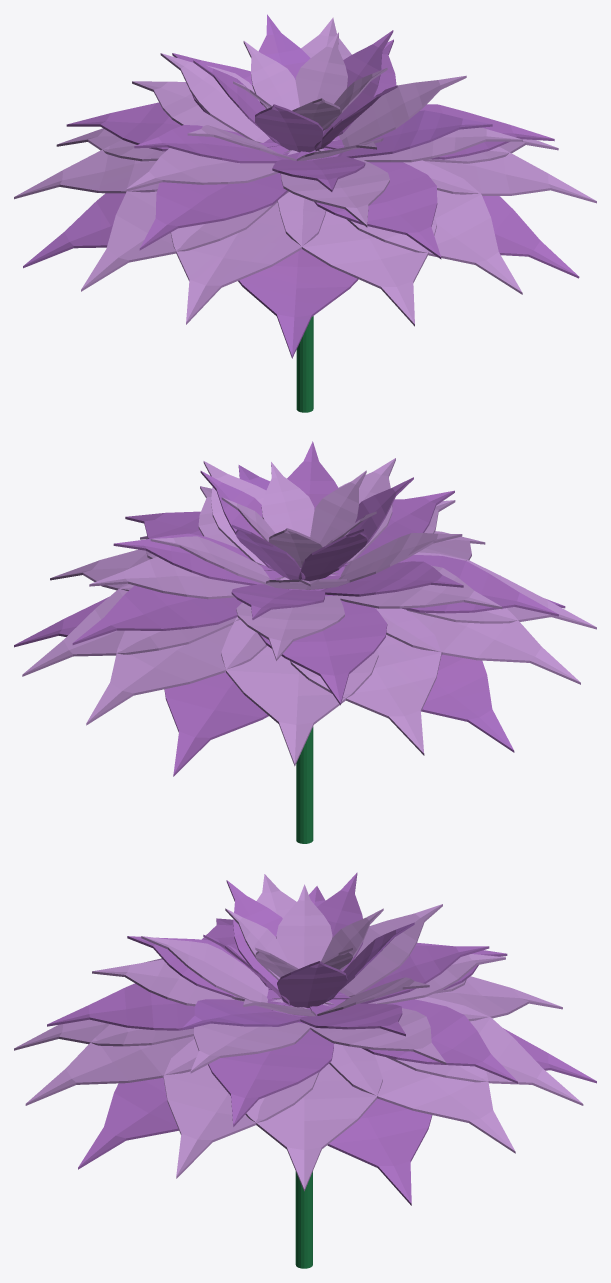
Rendered from Flower_7.fbx.
3 views of the same model, one above another, from view 1: azimuth 30°, elevation 25°; view 2: azimuth 150°, elevation 25°; view 3: azimuth 270°, elevation 25° (orthographic).
Visible parts, largest first — view 1: Flower_7; view 2: Flower_7; view 3: Flower_7.
Part boxes in pixels (left/top/right/bottom): Flower_7: left=14, top=14, right=596, bottom=412; Flower_7: left=14, top=441, right=596, bottom=843; Flower_7: left=14, top=872, right=596, bottom=1268.
Size of the model in its own units: 741 by 493 by 742.
